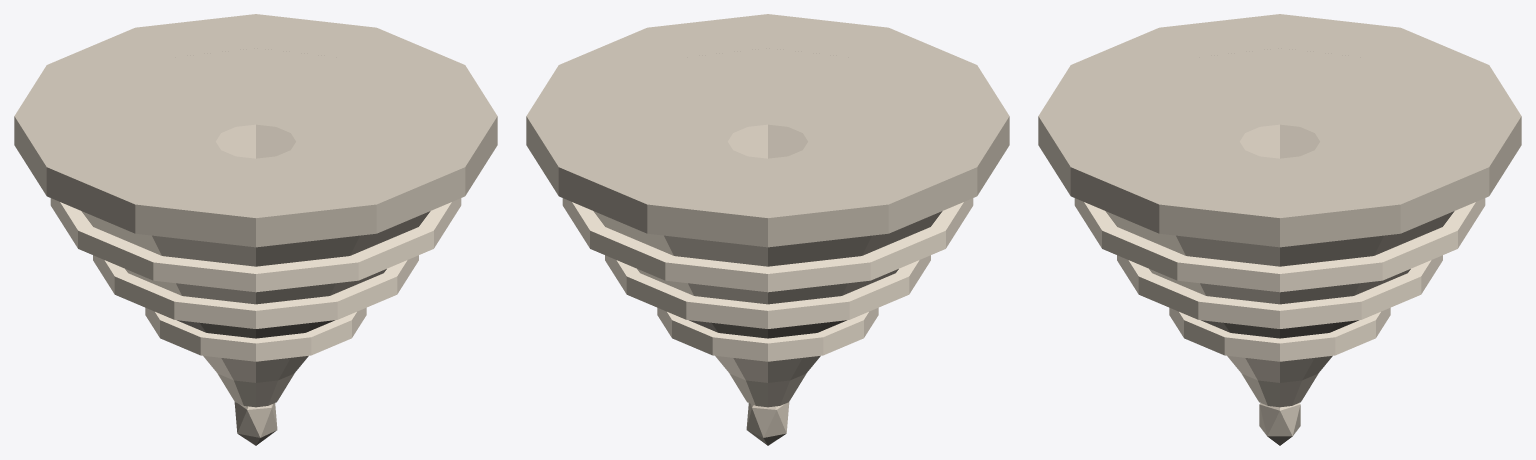
File: SM_VK_Turret_Corbel.fbx
3 renders of one model, left to right at view 1: azimuth 30°, elevation 25°; view 2: azimuth 150°, elevation 25°; view 3: azimuth 270°, elevation 25°, orthographic.
Visible parts, largest first — view 1: SM_VK_Turret_Corbel.001; view 2: SM_VK_Turret_Corbel.001; view 3: SM_VK_Turret_Corbel.001.
Part boxes in pixels (box(x1,y1,x2,y2)): SM_VK_Turret_Corbel.001: box(14, 14, 497, 445); SM_VK_Turret_Corbel.001: box(526, 14, 1009, 445); SM_VK_Turret_Corbel.001: box(1038, 14, 1521, 445).
Size of the model in its own units: 2.4 by 1.81 by 2.4.
